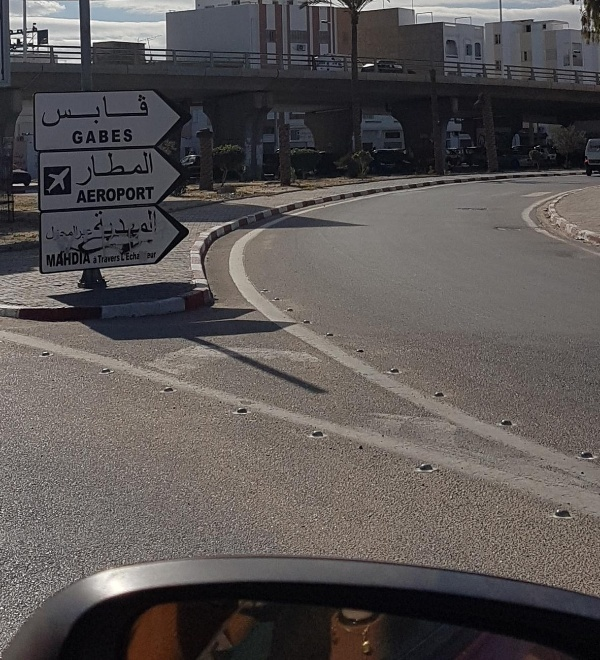text: (81, 151, 96, 189), (97, 151, 112, 189), (113, 151, 128, 189), (129, 151, 144, 189), (49, 94, 64, 128), (65, 94, 80, 128), (81, 94, 96, 128), (97, 94, 112, 128), (113, 94, 128, 128), (129, 94, 144, 128), (97, 209, 112, 242), (113, 209, 128, 242), (129, 209, 144, 242), (145, 209, 158, 242), (145, 151, 154, 189), (49, 225, 64, 244), (65, 225, 80, 244), (81, 225, 96, 244), (81, 187, 96, 204), (97, 187, 112, 204), (113, 187, 128, 204), (129, 187, 144, 204), (81, 129, 96, 145), (97, 129, 112, 145), (113, 129, 128, 145), (49, 252, 64, 268), (65, 252, 80, 268), (145, 94, 151, 128), (145, 187, 156, 204), (81, 252, 92, 268), (44, 94, 48, 128), (97, 255, 112, 264), (129, 252, 144, 261), (92, 209, 96, 242), (97, 225, 103, 244), (73, 129, 80, 145), (145, 252, 157, 261), (129, 129, 133, 145), (113, 255, 120, 264), (121, 252, 128, 261), (77, 187, 80, 204), (46, 225, 48, 244), (93, 255, 96, 266), (47, 252, 48, 268)
